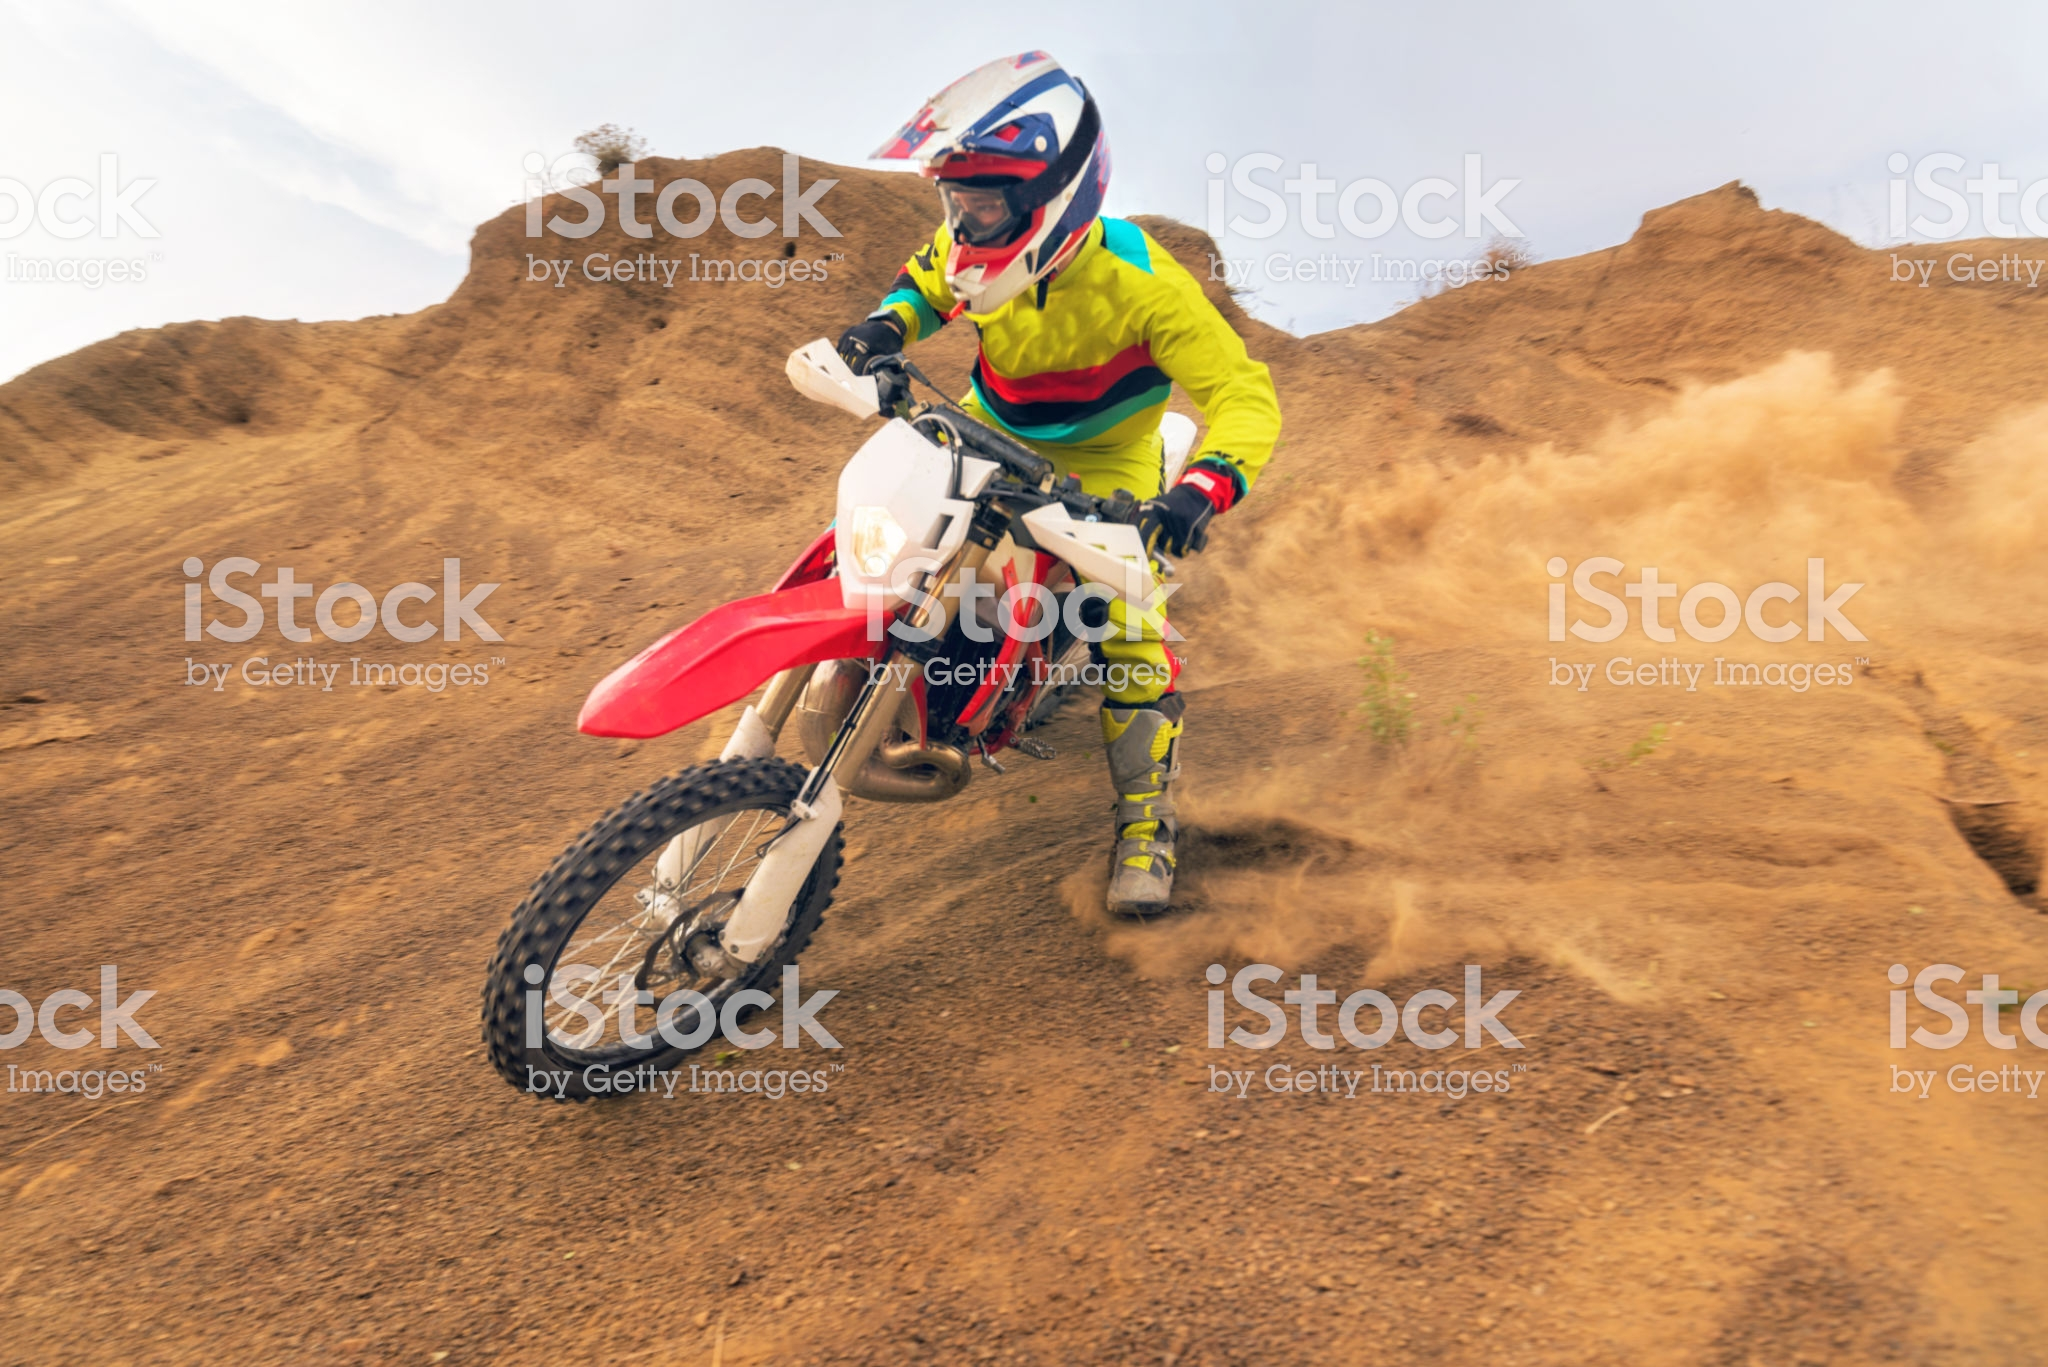helmet: (877, 60, 1128, 333)
